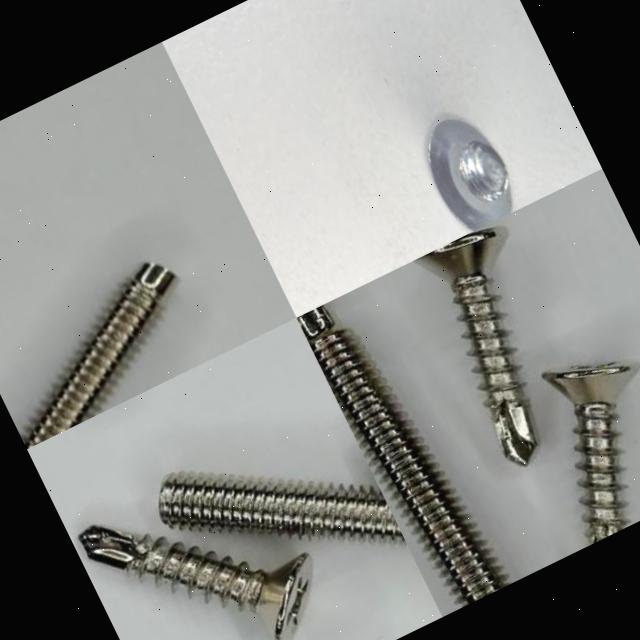Screw: (297, 305, 511, 607), (416, 226, 538, 464), (23, 262, 175, 449), (78, 524, 313, 640), (542, 361, 638, 543), (158, 471, 404, 538), (428, 117, 512, 230)
